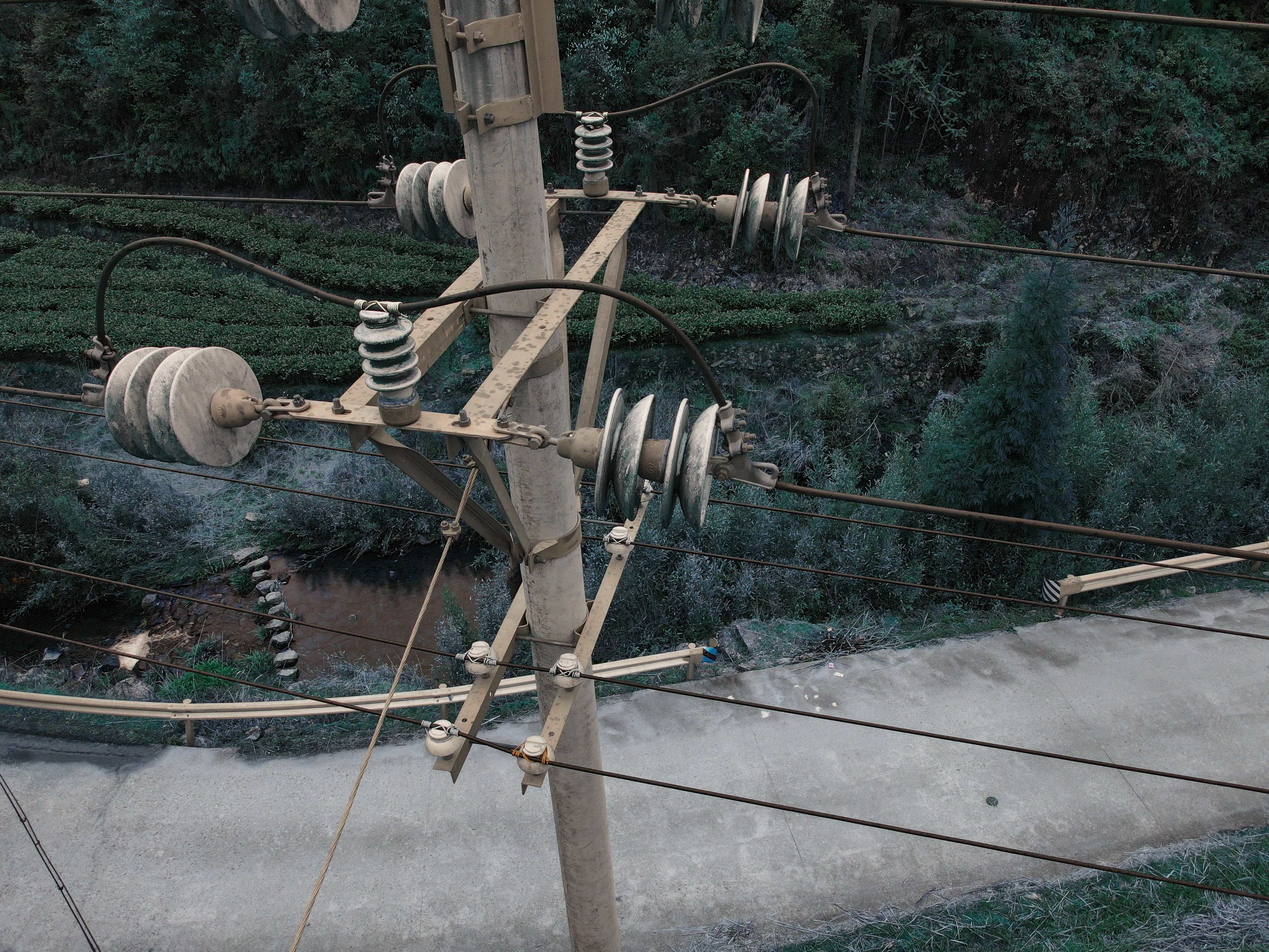severe_soiling_no_discharge_whole: (567, 384, 723, 533), (101, 340, 268, 470), (705, 166, 811, 263), (348, 301, 428, 426), (394, 158, 471, 242), (630, 3, 764, 48), (237, 2, 365, 42), (572, 111, 615, 193), (515, 735, 559, 777), (462, 642, 501, 678), (550, 653, 588, 689), (601, 526, 636, 556)
